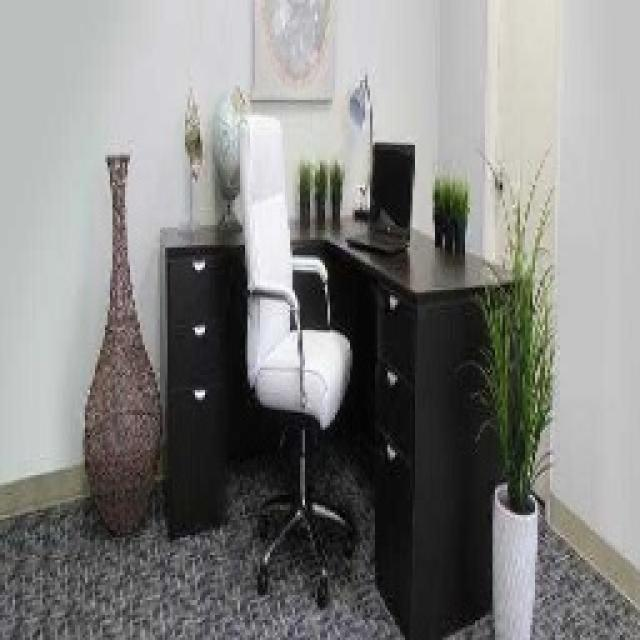sandalye: (235, 115, 358, 608)
